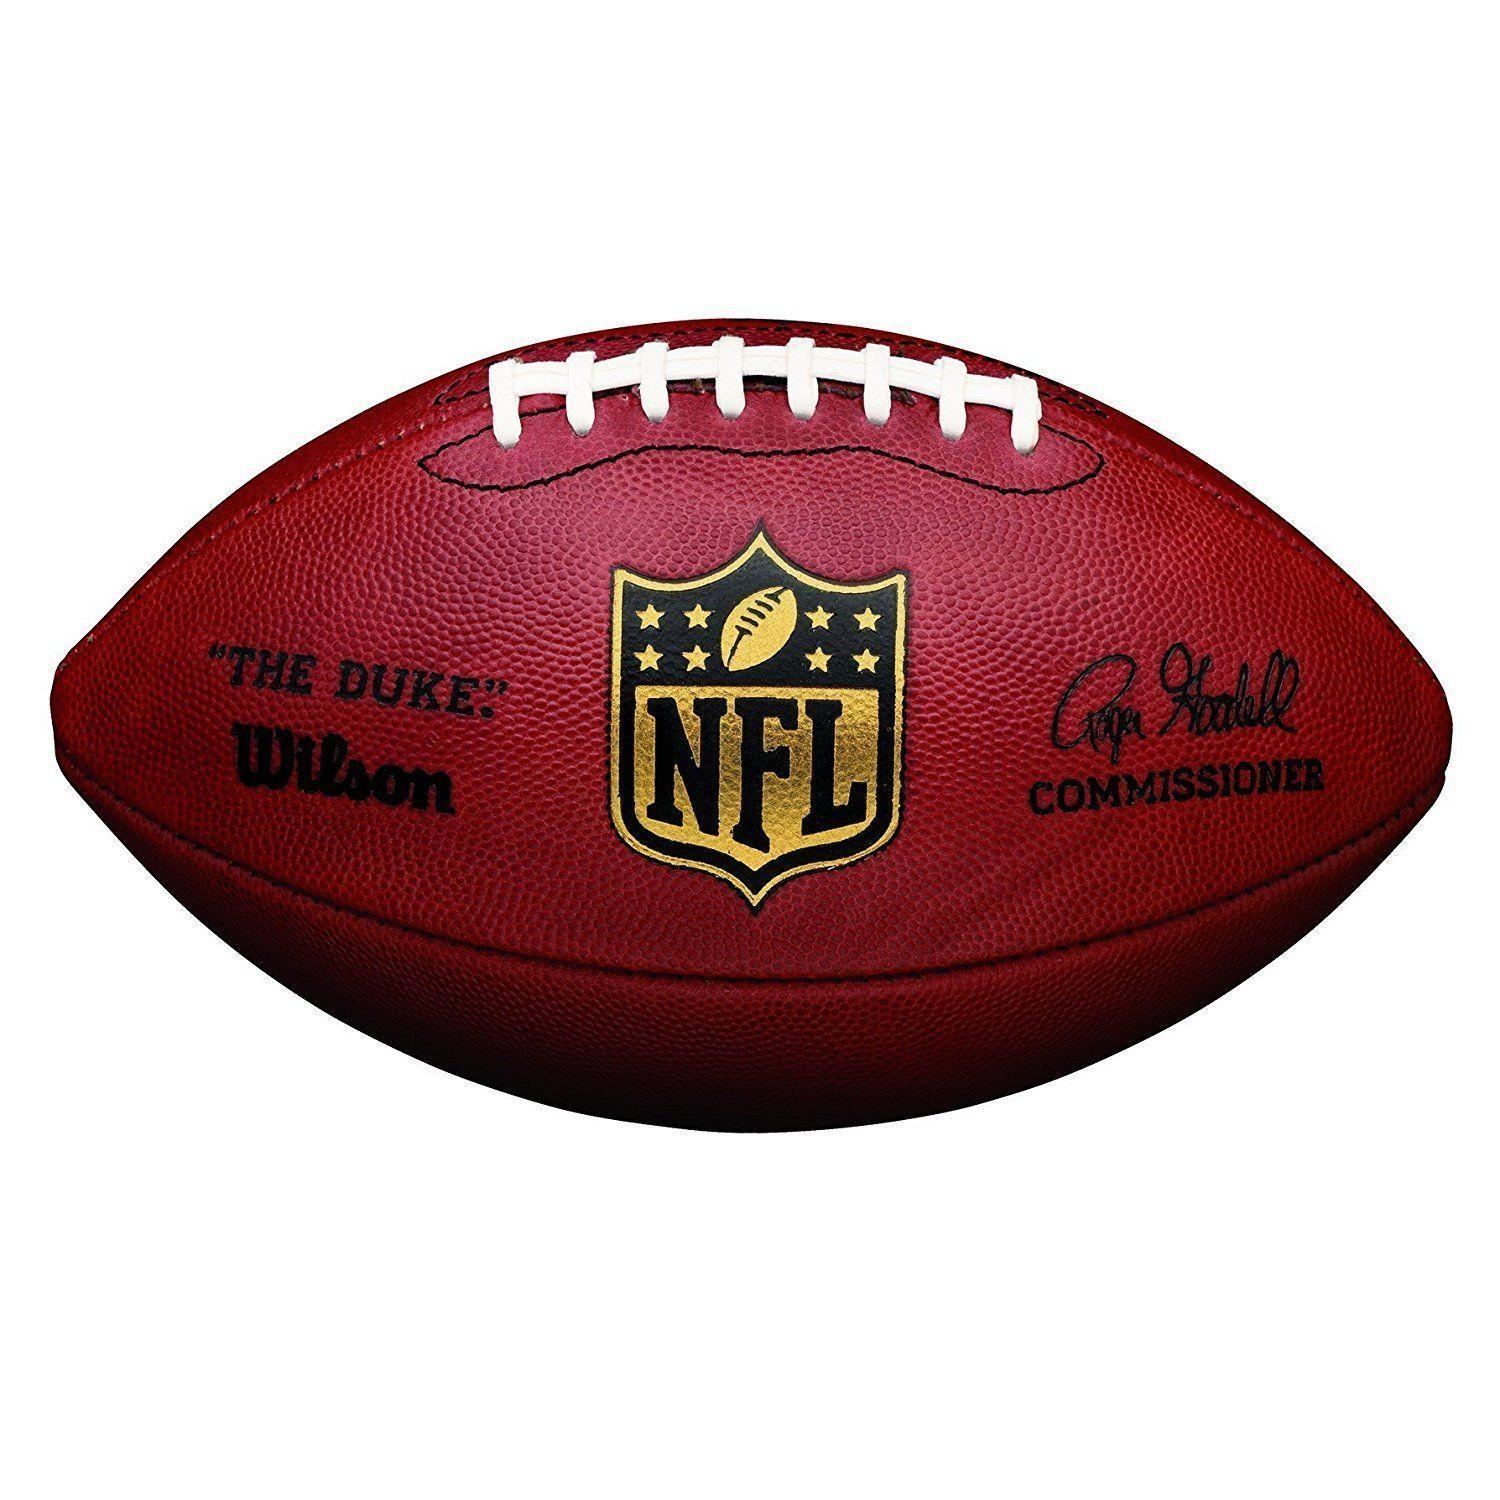Sports-Ball: (54, 319, 1451, 1130)
